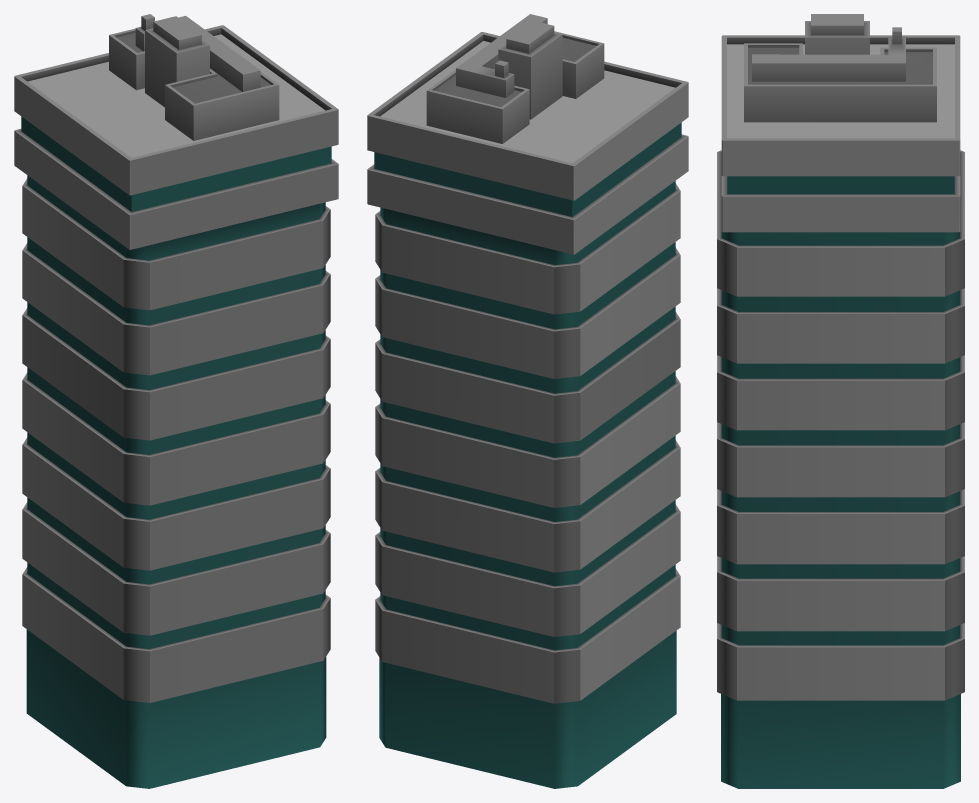
Rendered from buildings-industrial-traditionalskyscraper_v8.glb.
3 renders of one model, left to right at view 1: azimuth 30°, elevation 25°; view 2: azimuth 150°, elevation 25°; view 3: azimuth 270°, elevation 25°, orthographic. The views are drawn at different scales.
Parts seen in each view (by area): view 1: TraditionalSkyscraper_v8_base, TraditionalSkyscraper_v8_windowRefl; view 2: TraditionalSkyscraper_v8_base, TraditionalSkyscraper_v8_windowRefl; view 3: TraditionalSkyscraper_v8_base, TraditionalSkyscraper_v8_windowRefl.
Boxes of the visible parts, x1,y1,x2,y2 form: TraditionalSkyscraper_v8_base: (14,14,338,702); TraditionalSkyscraper_v8_windowRefl: (21,116,331,788); TraditionalSkyscraper_v8_base: (367,14,688,703); TraditionalSkyscraper_v8_windowRefl: (374,122,681,788); TraditionalSkyscraper_v8_base: (717,14,964,700); TraditionalSkyscraper_v8_windowRefl: (721,176,960,788).
Bounding box in the file's own units: 21.84 × 69.6 × 21.75.
